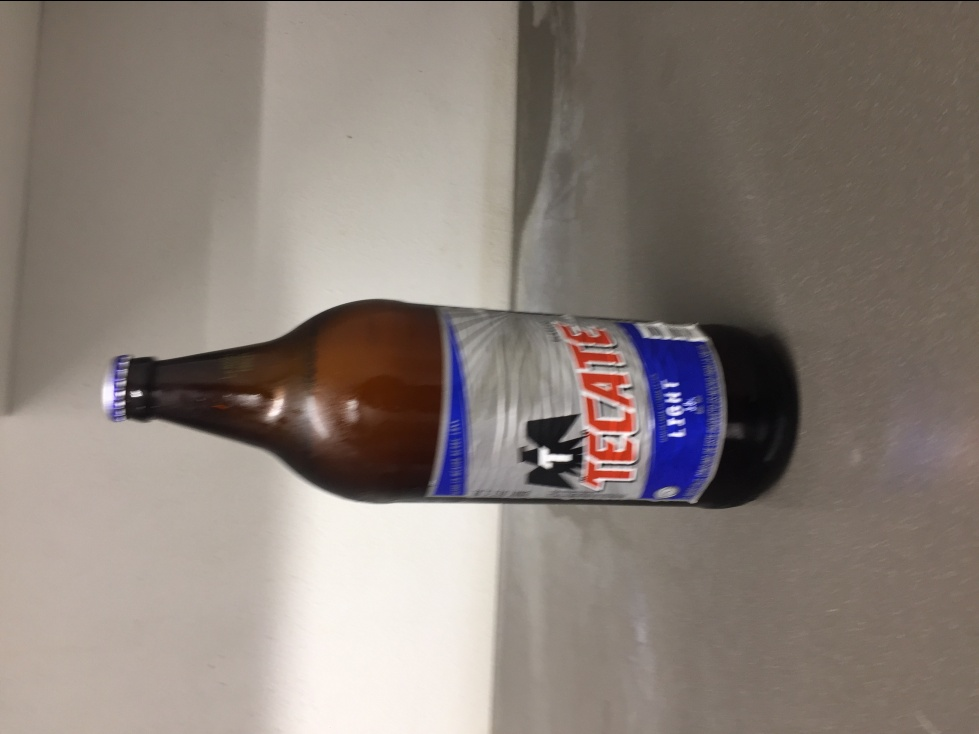tecateC: (98, 295, 799, 513)
